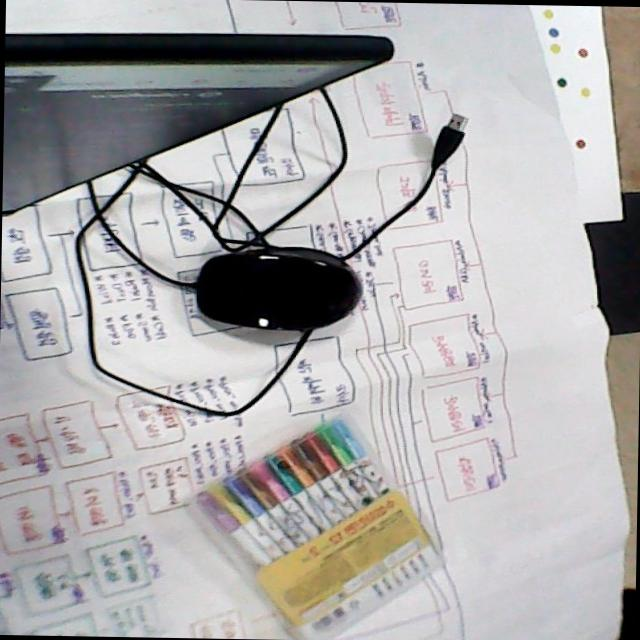mouse: (186, 240, 370, 337)
signpen: (190, 402, 457, 639)
